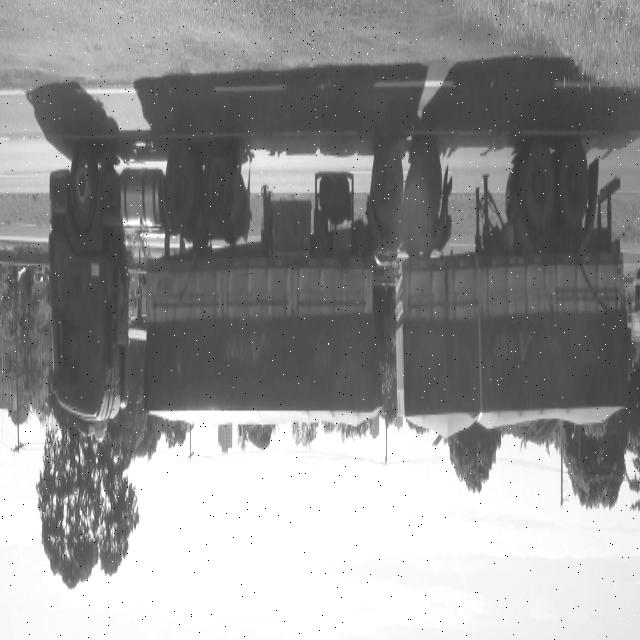-axle: (557, 131, 589, 231), (410, 138, 442, 232), (168, 138, 201, 229), (373, 142, 404, 228), (524, 148, 555, 229), (206, 146, 236, 224), (70, 151, 100, 226)
